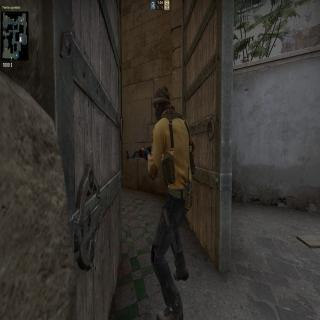T-Head: (152, 84, 174, 120)
